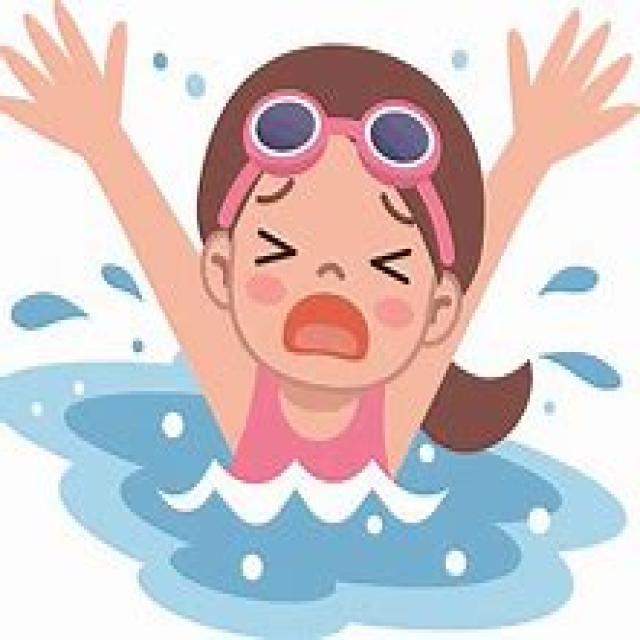drowning: (22, 14, 627, 539)
